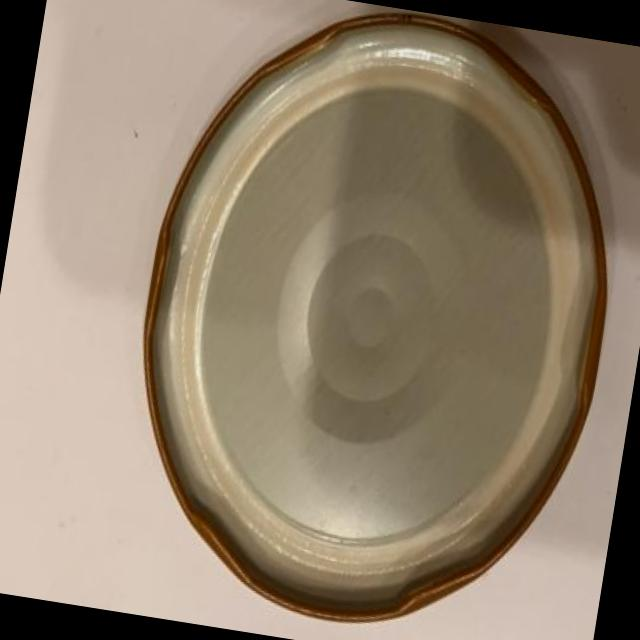kim_loai: (143, 11, 610, 622)
